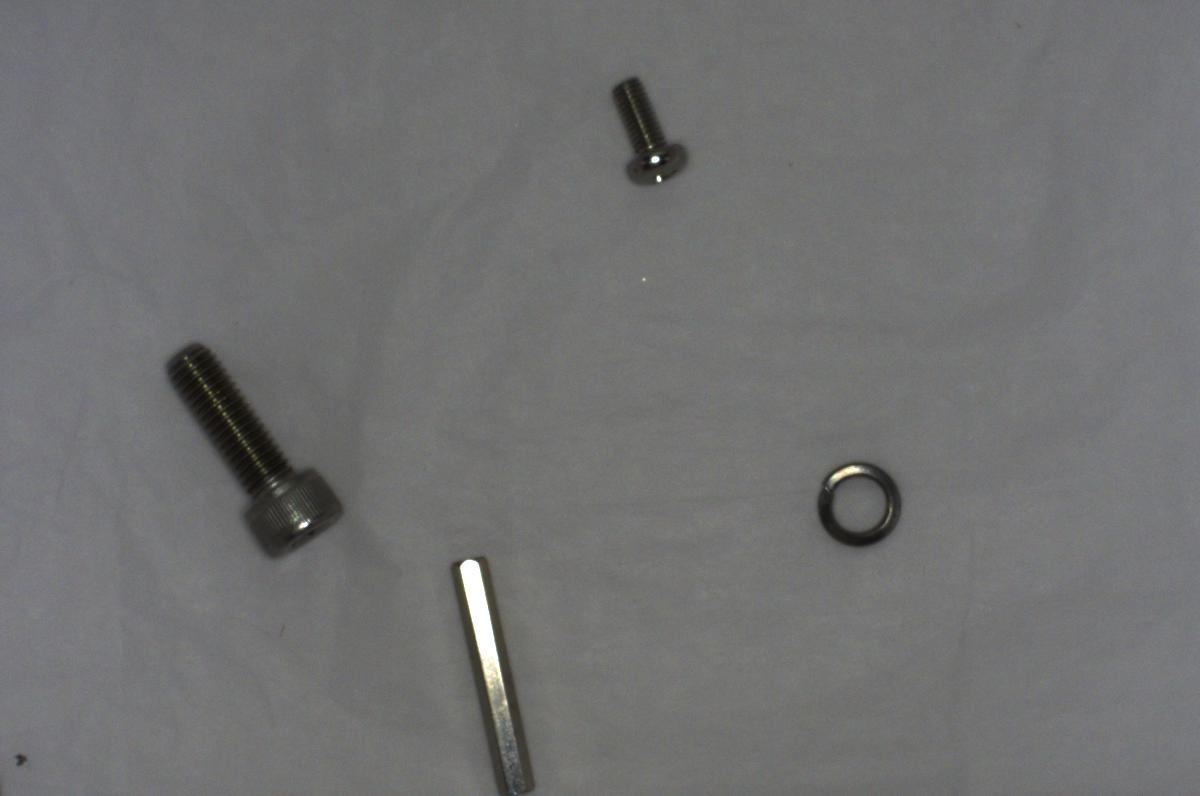Double hexagonal column: (450, 550, 537, 795)
Hexagon screw: (162, 340, 346, 563)
Round head screw: (607, 69, 690, 194)
Spring washer: (802, 453, 913, 556)
